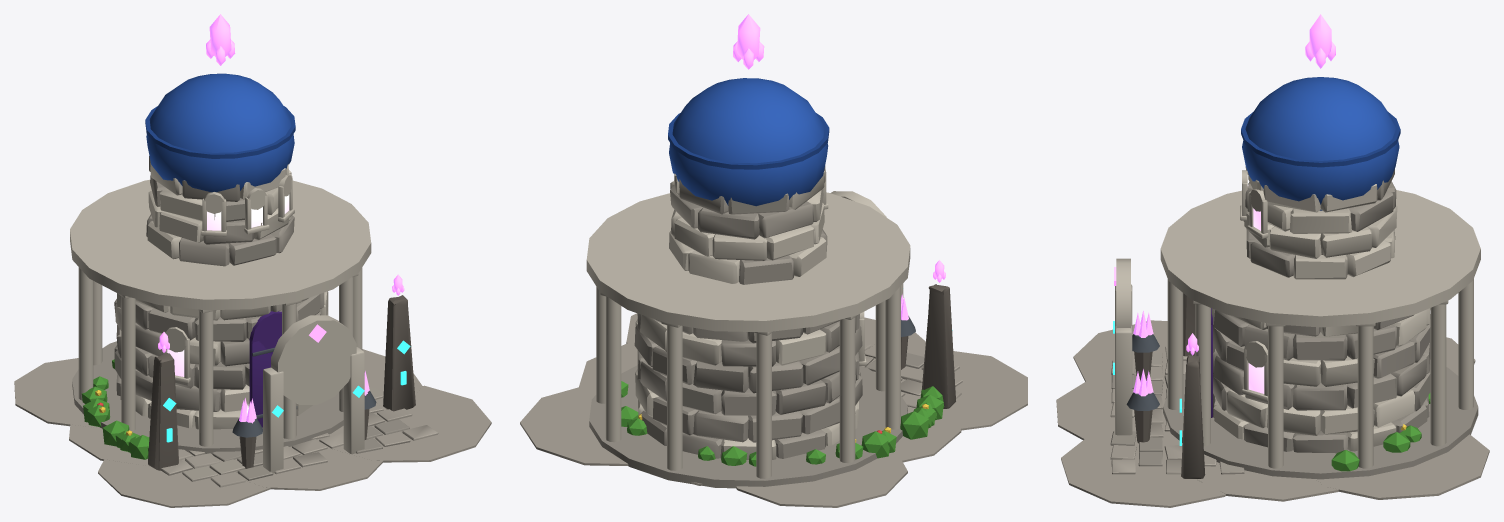
Rendered from budynek_fuzji_poz16.glb.
The picture shows the model from 3 angles, left to right: view 1: azimuth 30°, elevation 25°; view 2: azimuth 150°, elevation 25°; view 3: azimuth 270°, elevation 25°; orthographic projection. The views are drawn at different scales.
Parts seen in each view (by area): view 1: budynek_fuzji_poz16; view 2: budynek_fuzji_poz16; view 3: budynek_fuzji_poz16.
Part boxes in pixels (x1=…): budynek_fuzji_poz16: x1=14, y1=14, x2=491, y2=507; budynek_fuzji_poz16: x1=520, y1=14, x2=1027, y2=507; budynek_fuzji_poz16: x1=1056, y1=14, x2=1489, y2=507.
Bounding box in the file's own units: 8.92 × 9.12 × 8.79.
